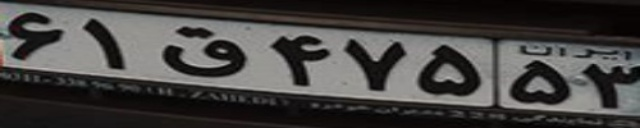1: (80, 18, 126, 70)
3: (583, 62, 637, 111)
4: (269, 31, 332, 87)
5: (416, 42, 481, 97), (505, 59, 575, 103)
6: (4, 9, 64, 61)
7: (343, 36, 406, 92)
ghaf: (159, 26, 251, 77)
